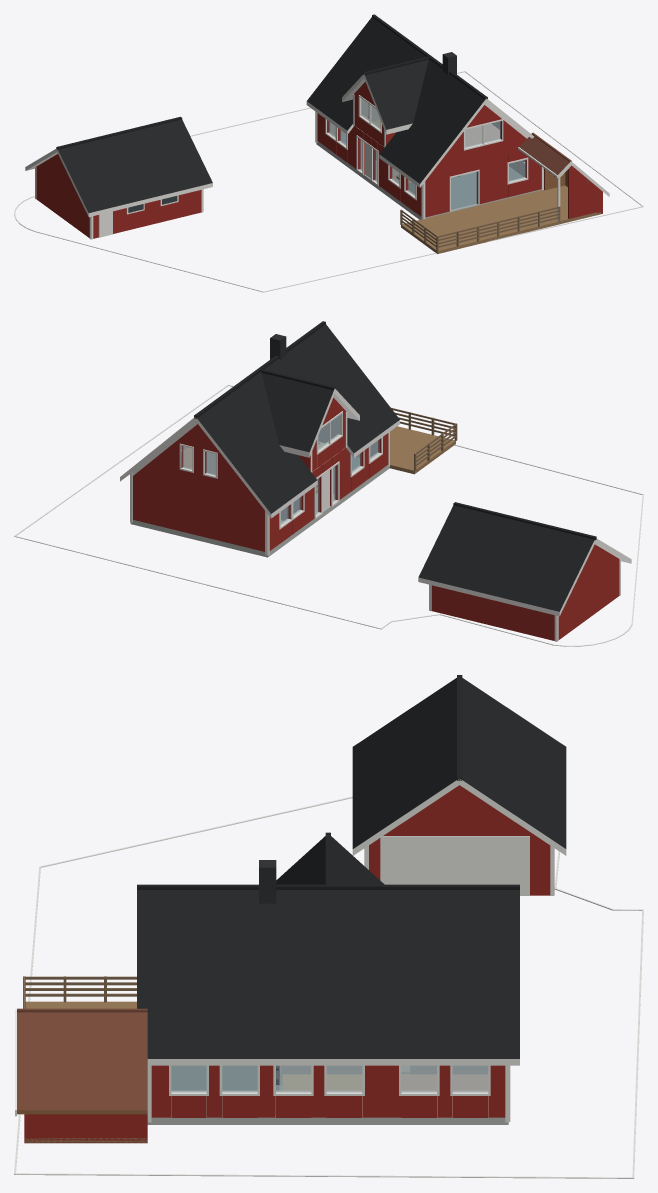
File: mallingsrudveien-30.glb
3 renders of one model, top to bottom at view 1: azimuth 30°, elevation 25°; view 2: azimuth 150°, elevation 25°; view 3: azimuth 270°, elevation 25°, orthographic. The views are drawn at different scales.
Visible parts, largest first — view 1: Takstein (×2), Tak vest tekking, Vegger 1. etasje, Terrasse, Kledning garasje, Ark sør tekking, Gavl S, Rekkverk, Glass 1. etasje, Karmer 1. etasje, Tomtegrense, Kledning overbygg (+10 smaller); view 2: Takstein (×2), Tak vest tekking, Vegger 1. etasje, Kledning garasje, Ark nord tekking, Gavl N, Tomtegrense, Terrasse, Karmer 1. etasje, Gulv 1. etasje, Vegger ark, Rekkverk (+5 smaller); view 3: Tak øst tekking, Takstein (×2), Vegger 1. etasje, Takshingel overbygg, Port og karmer garasje, Kledning garasje, Glass 1. etasje, Tomtegrense, Kledning overbygg, Gulv 1. etasje, Tak øst kant, Karmer 1. etasje (+9 smaller).
Boxes of the visible parts, x1=… form: Takstein (×2): x1=56, y1=14, x2=487, y2=212; Tak vest tekking: x1=307, y1=17, x2=484, y2=183; Vegger 1. etasje: x1=317, y1=113, x2=541, y2=217; Terrasse: x1=401, y1=185, x2=602, y2=253; Kledning garasje: x1=36, y1=154, x2=201, y2=238; Ark sør tekking: x1=365, y1=60, x2=428, y2=129; Gavl S: x1=431, y1=105, x2=526, y2=173; Rekkverk: x1=400, y1=206, x2=560, y2=251; Glass 1. etasje: x1=328, y1=121, x2=525, y2=210; Karmer 1. etasje: x1=315, y1=111, x2=543, y2=219; Tomtegrense: x1=14, y1=71, x2=643, y2=292; Kledning overbygg: x1=544, y1=165, x2=602, y2=218; Takstein (×2): x1=194, y1=321, x2=596, y2=611; Tak vest tekking: x1=197, y1=324, x2=399, y2=513; Vegger 1. etasje: x1=133, y1=433, x2=388, y2=551; Kledning garasje: x1=431, y1=544, x2=619, y2=640; Ark nord tekking: x1=261, y1=373, x2=333, y2=452; Gavl N: x1=137, y1=424, x2=258, y2=502; Tomtegrense: x1=14, y1=384, x2=643, y2=646; Terrasse: x1=389, y1=426, x2=455, y2=474; Karmer 1. etasje: x1=130, y1=432, x2=389, y2=555; Gulv 1. etasje: x1=130, y1=465, x2=389, y2=557; Vegger ark: x1=298, y1=397, x2=346, y2=471; Rekkverk: x1=391, y1=407, x2=457, y2=470; Tak øst tekking: x1=137, y1=890, x2=519, y2=1058; Takstein (×2): x1=137, y1=675, x2=566, y2=889; Vegger 1. etasje: x1=151, y1=1065, x2=505, y2=1117; Takshingel overbygg: x1=17, y1=1008, x2=147, y2=1110; Port og karmer garasje: x1=364, y1=836, x2=554, y2=895; Kledning garasje: x1=369, y1=785, x2=550, y2=895; Glass 1. etasje: x1=171, y1=1066, x2=487, y2=1091; Tomtegrense: x1=14, y1=796, x2=643, y2=1178; Kledning overbygg: x1=24, y1=1114, x2=147, y2=1143; Gulv 1. etasje: x1=147, y1=1073, x2=508, y2=1124; Tak øst kant: x1=147, y1=1059, x2=519, y2=1065; Karmer 1. etasje: x1=147, y1=1065, x2=510, y2=1122.
Size of the model in its own units: 31.98 by 7.87 by 21.05.
